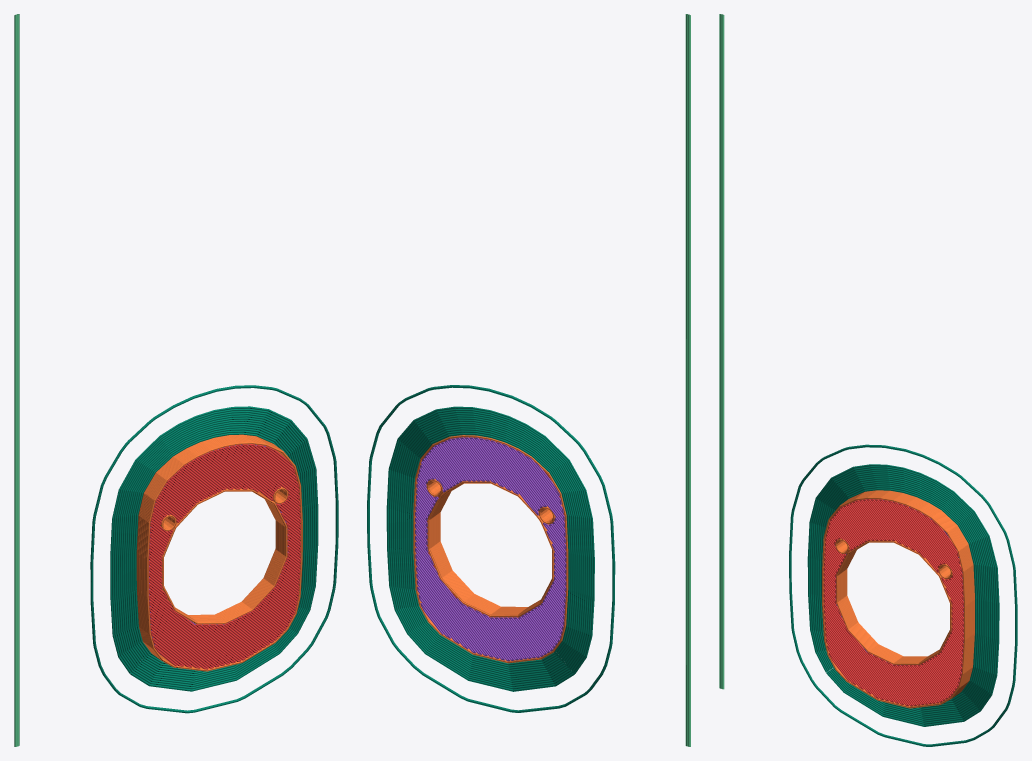
File: acr.obj
3 renders of one model, left to right at view 1: azimuth 30°, elevation 25°; view 2: azimuth 150°, elevation 25°; view 3: azimuth 330°, elevation 25°, orthographic. The views are drawn at different scales.
Bounding box in the file's own units: 60.22 × 132 × 3.6.
